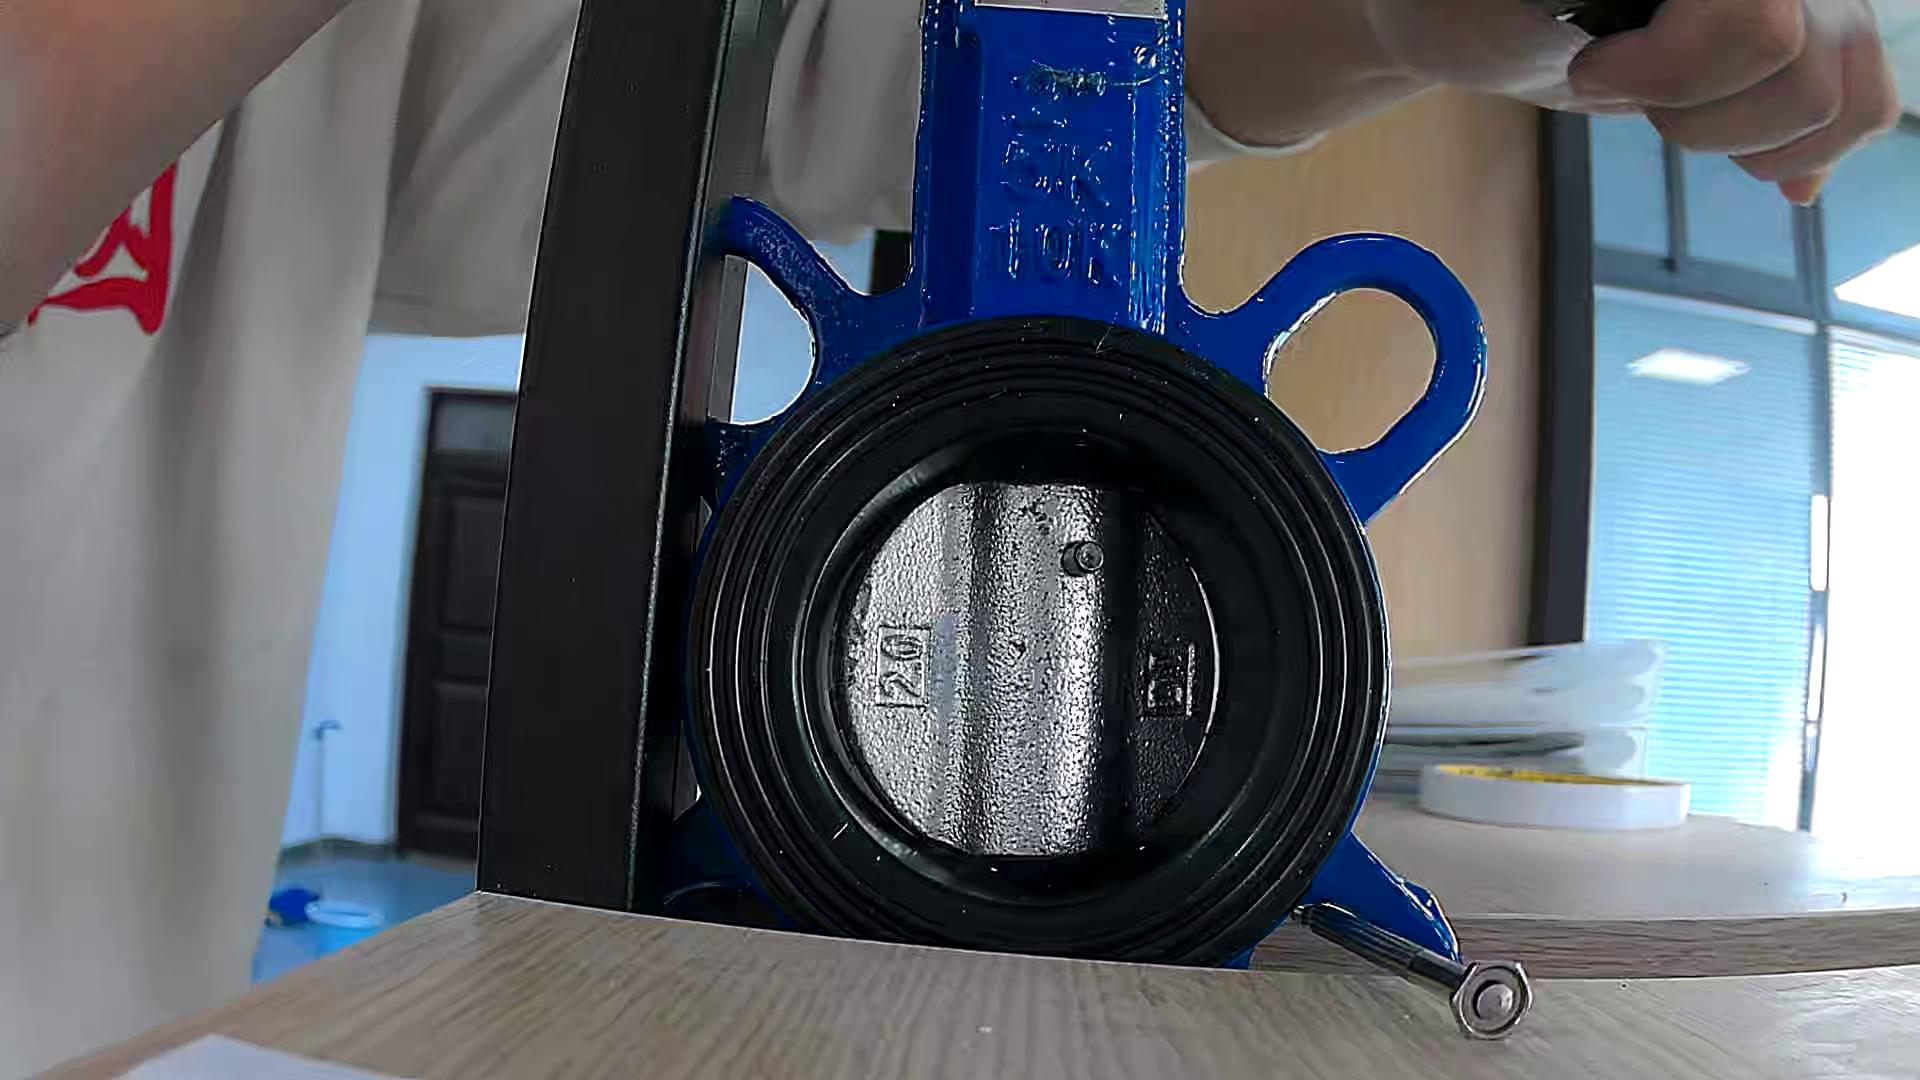valve: (840, 480, 1215, 861)
